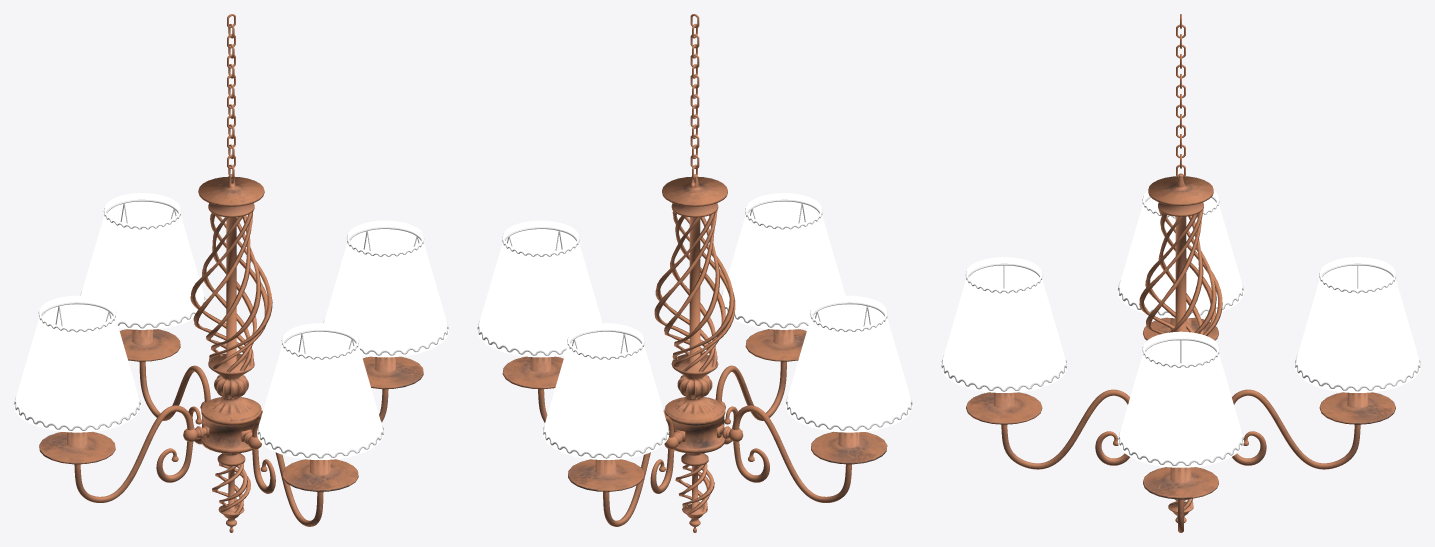
Rendered from Chandelier.glb.
3 views of the same model, side by side, from view 1: azimuth 30°, elevation 25°; view 2: azimuth 150°, elevation 25°; view 3: azimuth 270°, elevation 25° (orthographic).
Visible parts, largest first — view 1: Copper chandelier; view 2: Copper chandelier; view 3: Copper chandelier.
Part boxes in pixels (x1=…): Copper chandelier: x1=14, y1=14, x2=448, y2=532; Copper chandelier: x1=477, y1=14, x2=912, y2=532; Copper chandelier: x1=941, y1=14, x2=1420, y2=532.
Bounding box in the file's own units: 0.8 × 0.9487 × 0.8.
2 materials, 1 textured.
